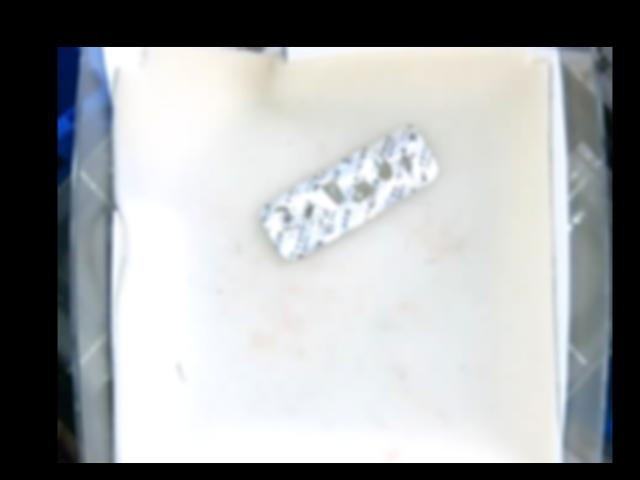Medicine: (259, 126, 437, 260)
